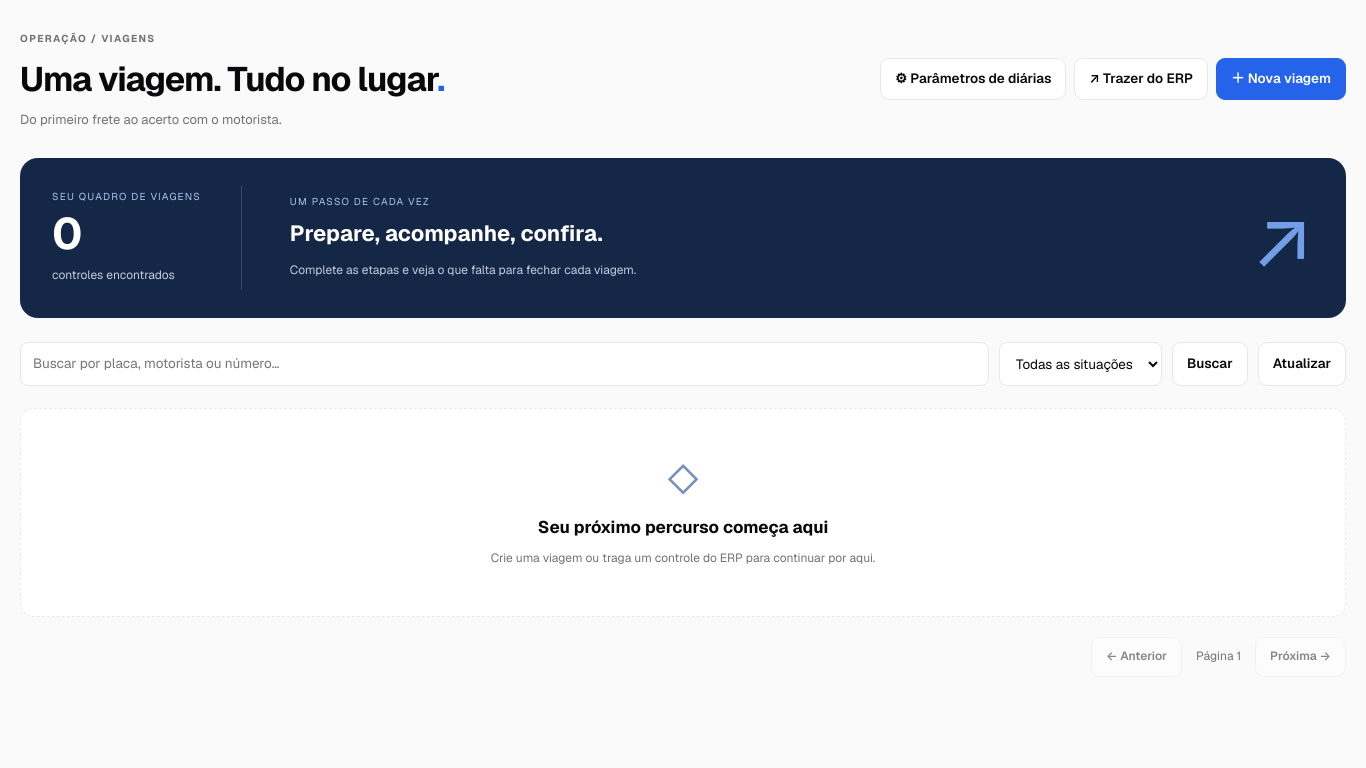
edita valor, horário e regra por horas no padrão persistido
Expected: the heading "Seu próximo percurso começa aqui" is shown, [538,516,828,538]
Click the button "⚙ Parâmetros de diárias" at (973, 79), box [880,58,1066,100]
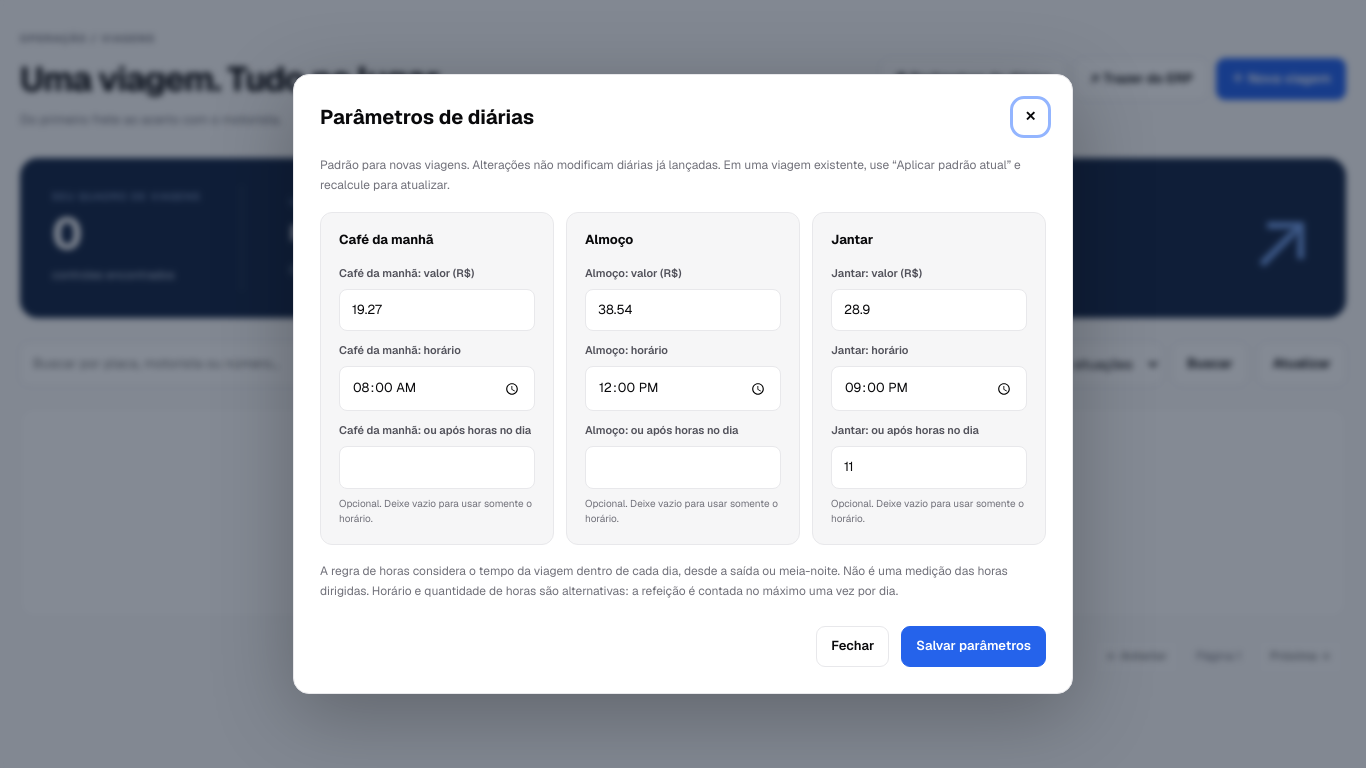
Expected: the number field labelled "Jantar: valor (R$)" holds "28.9"
Replace the text in the number field labelled "Jantar: valor (R$)" with "32.50" at (929, 310), box [831,288,1027,331]
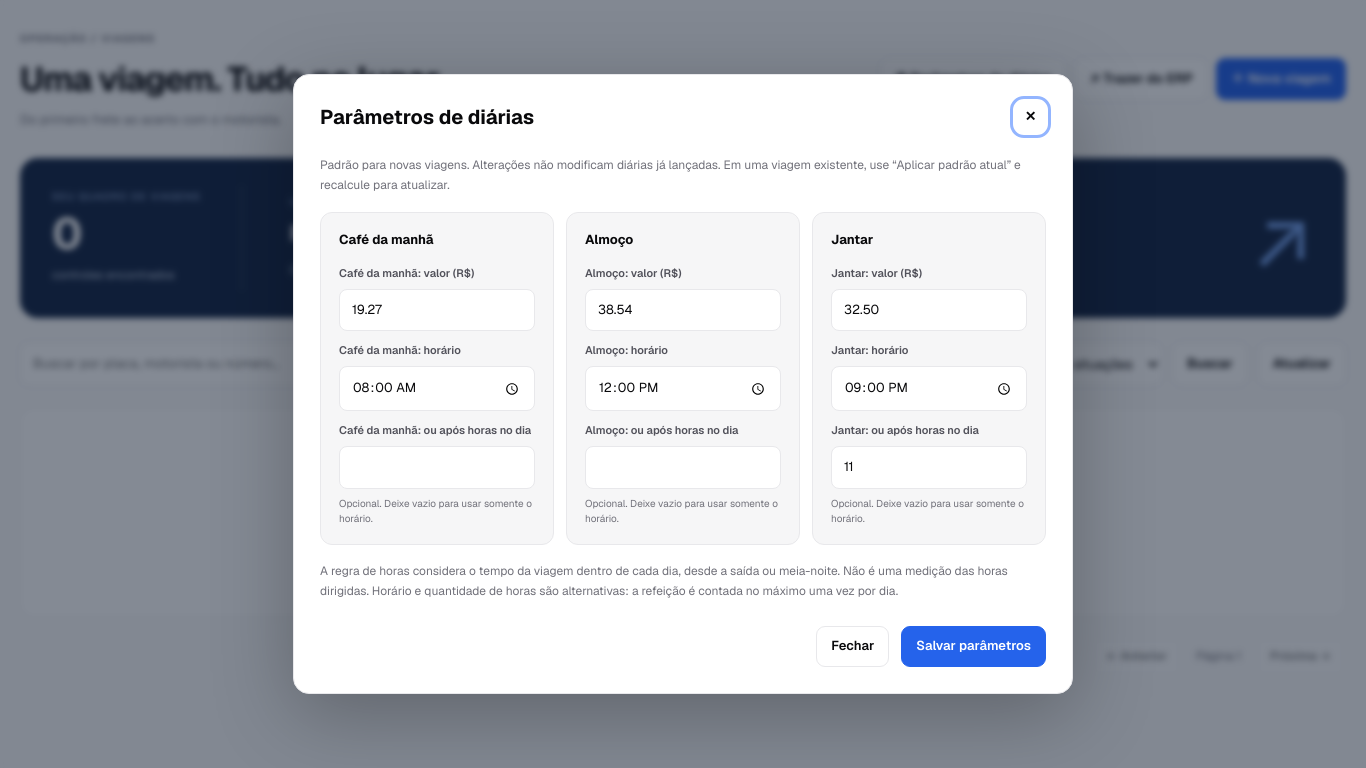
Replace the text in the time field labelled "Jantar: horário" with "20:30" at (929, 389), box [831,366,1027,411]
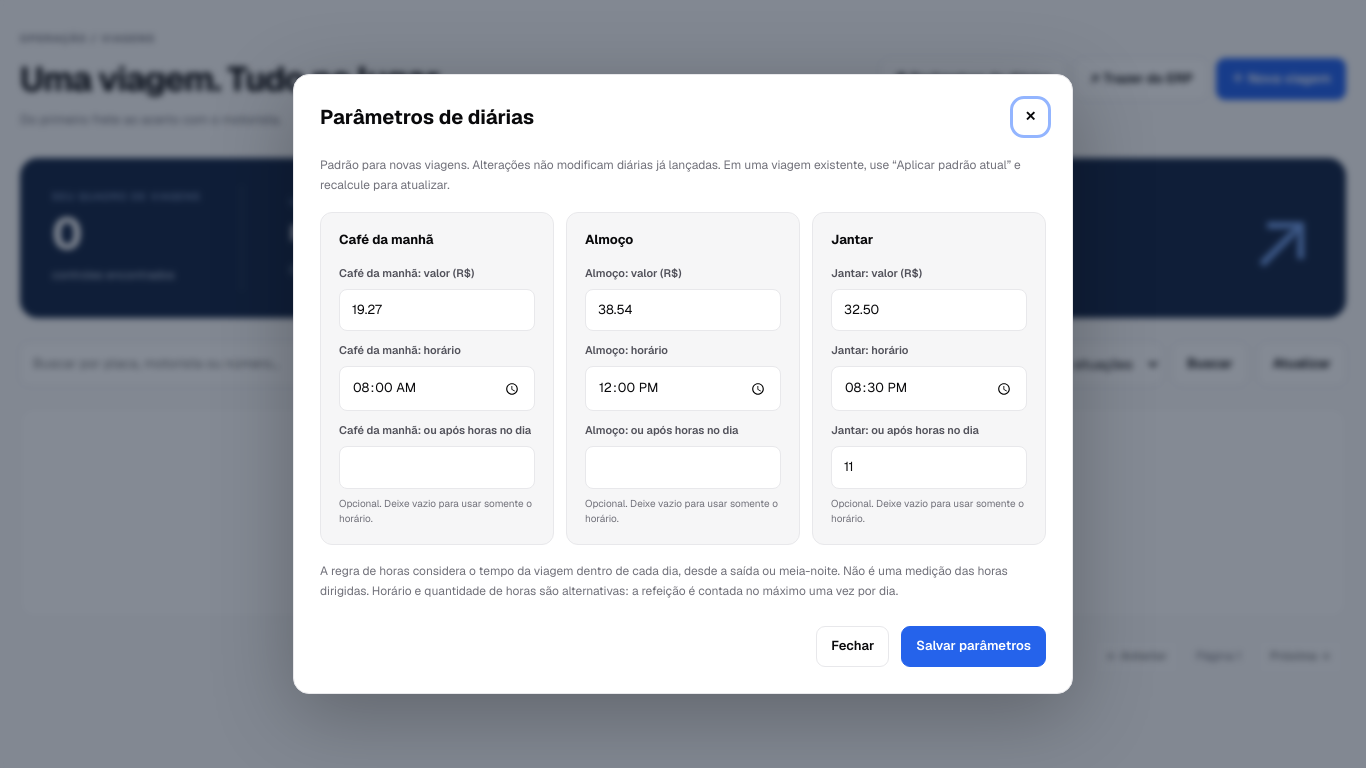
Replace the text in the number field labelled "Jantar: ou após horas no dia" with "10.5" at (929, 468), box [831,446,1027,489]
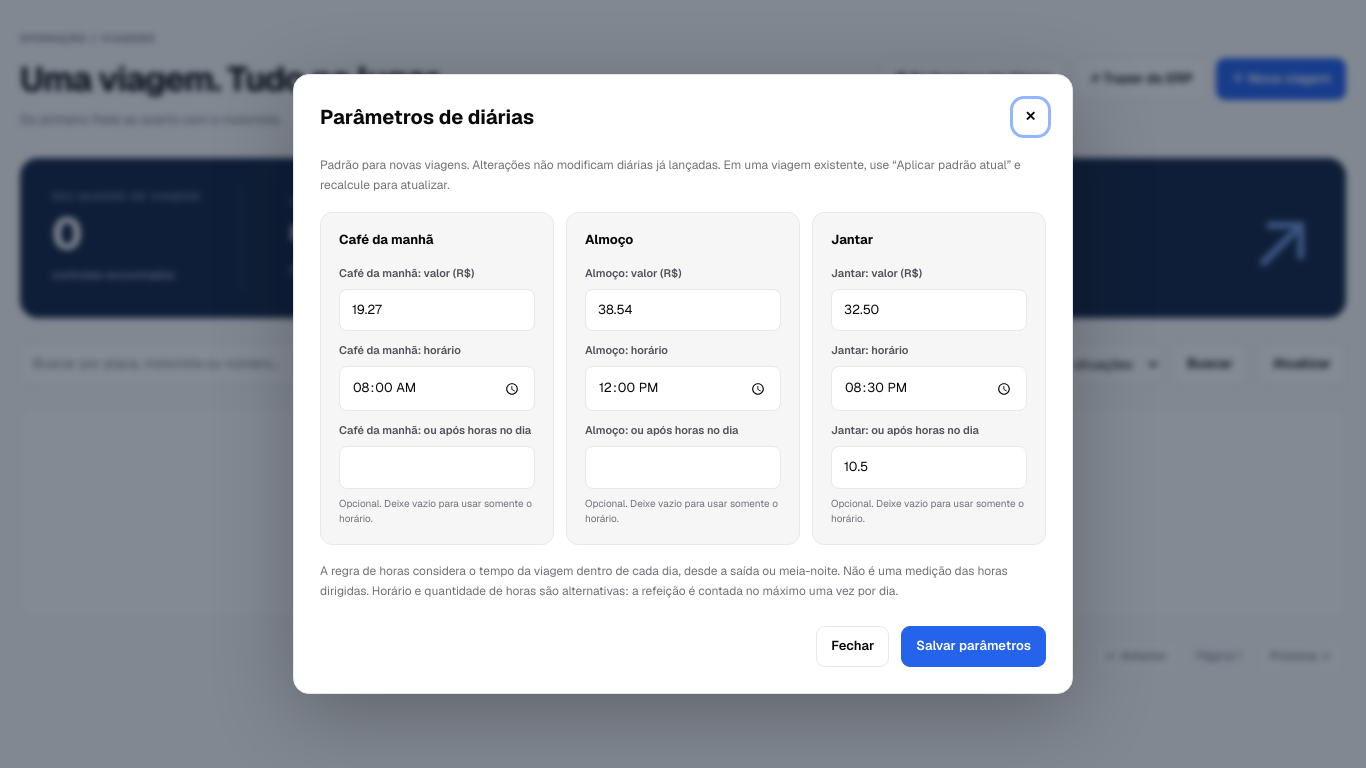
Click the button "Salvar parâmetros" at (974, 646), box [901,626,1046,666]
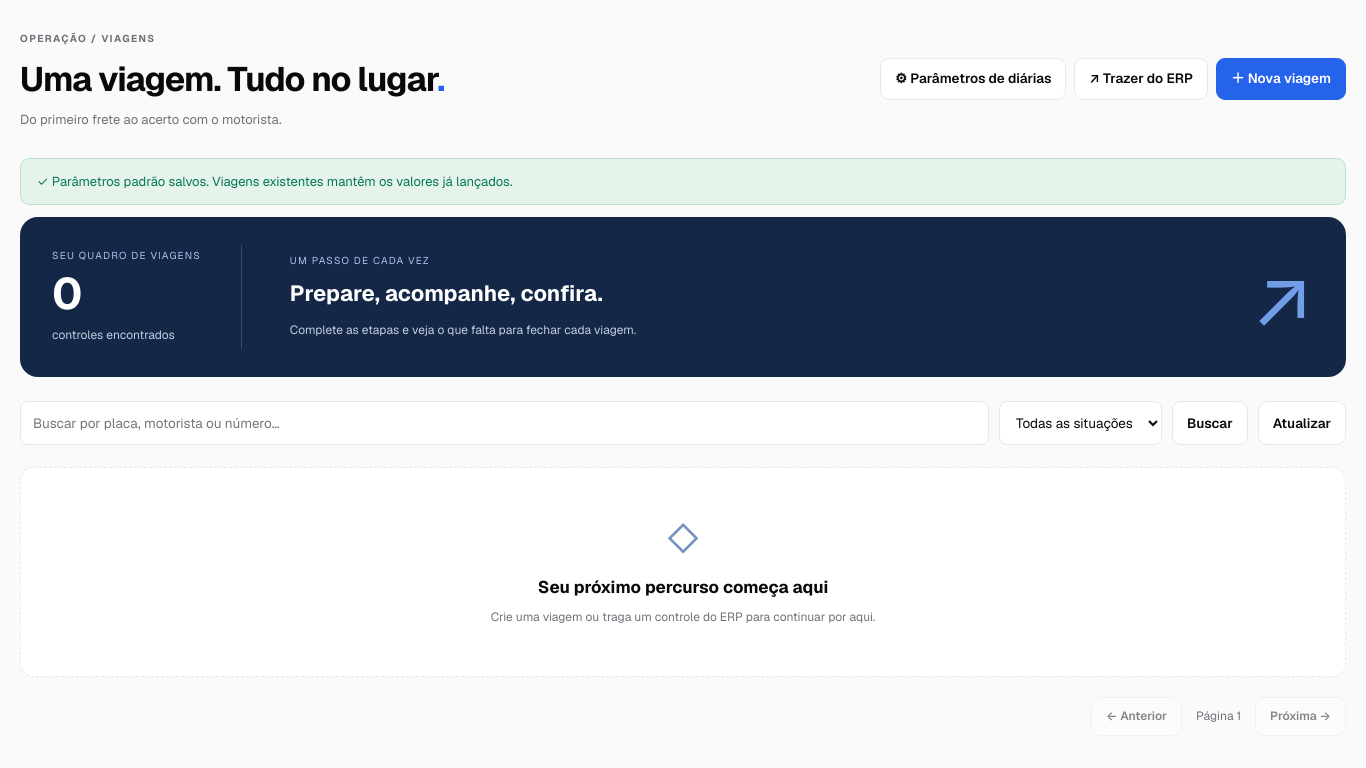
Expected: the text "✓ Parâmetros padrão salvos. Viagens existentes mantêm os valores já lançados." is shown, [20,158,1346,205]
